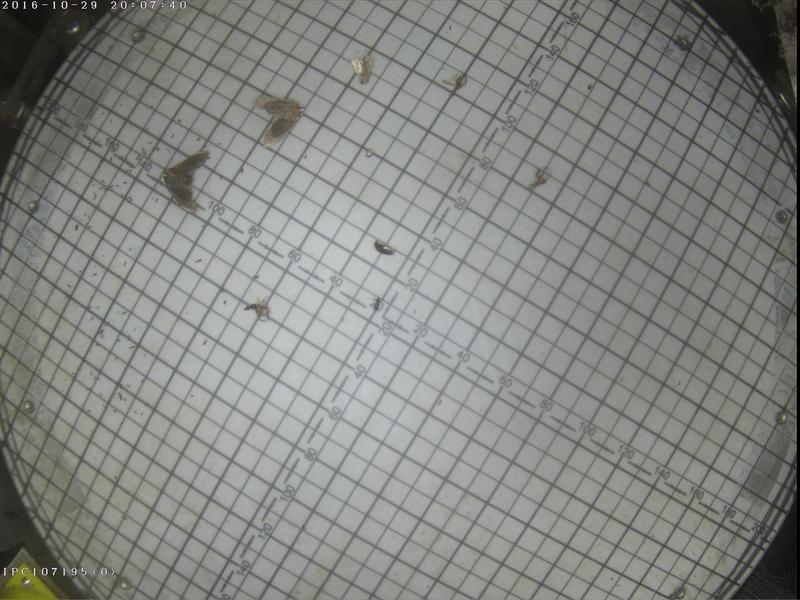Spodoptera exigua: (345, 52, 372, 85)
